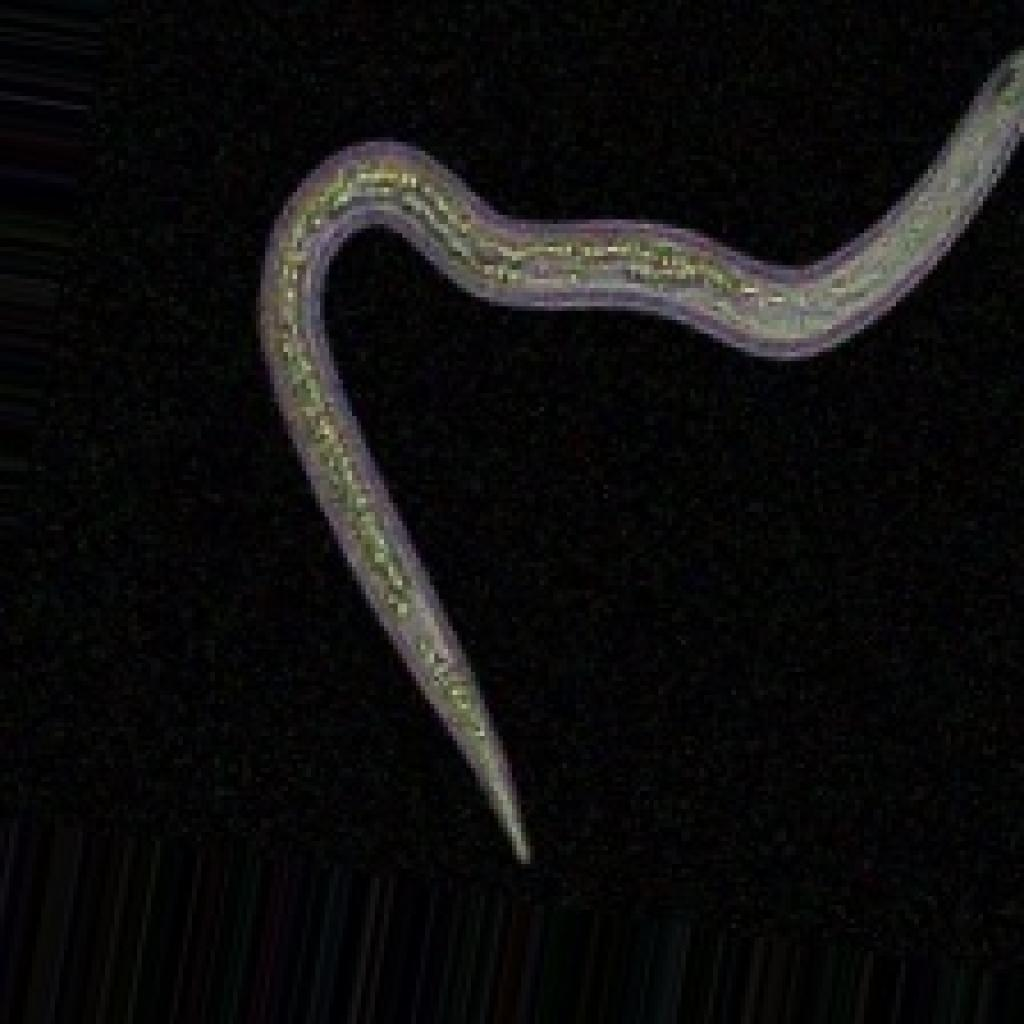Nematode: (247, 14, 1019, 868)
